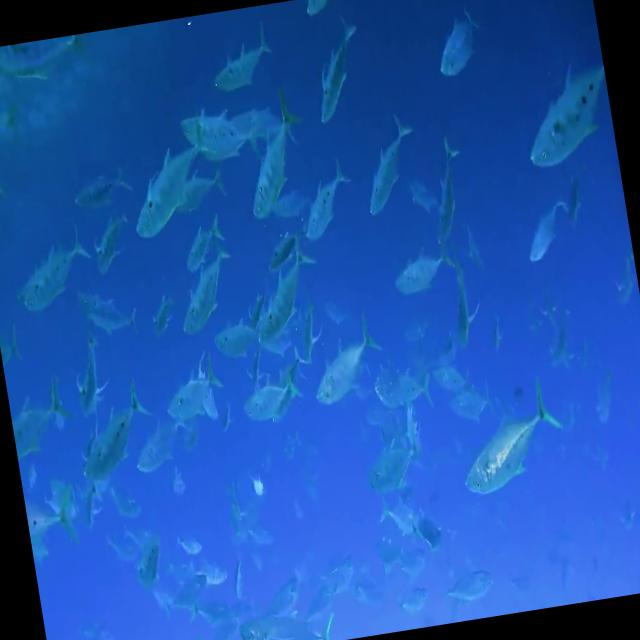fish: (450, 391, 580, 508), (116, 112, 225, 248), (66, 371, 168, 513), (508, 51, 618, 175), (229, 78, 310, 234), (348, 112, 443, 236), (162, 224, 248, 352), (2, 211, 98, 322), (302, 312, 395, 420), (356, 396, 436, 509), (302, 18, 378, 136), (246, 236, 326, 348), (514, 181, 595, 282), (288, 157, 361, 264), (157, 360, 228, 453), (202, 31, 289, 106), (176, 98, 264, 170), (60, 160, 144, 234), (424, 0, 491, 92), (426, 137, 476, 254), (234, 353, 308, 429), (440, 246, 488, 356), (129, 418, 205, 487), (77, 202, 139, 282), (208, 316, 279, 380), (7, 384, 70, 456), (386, 242, 454, 306), (21, 471, 74, 552), (121, 533, 172, 597), (443, 377, 498, 432), (442, 569, 502, 617), (386, 362, 436, 418), (142, 285, 183, 348), (426, 346, 469, 404), (376, 500, 422, 548), (392, 580, 442, 624), (184, 554, 230, 600), (172, 523, 215, 564), (66, 616, 122, 640)
